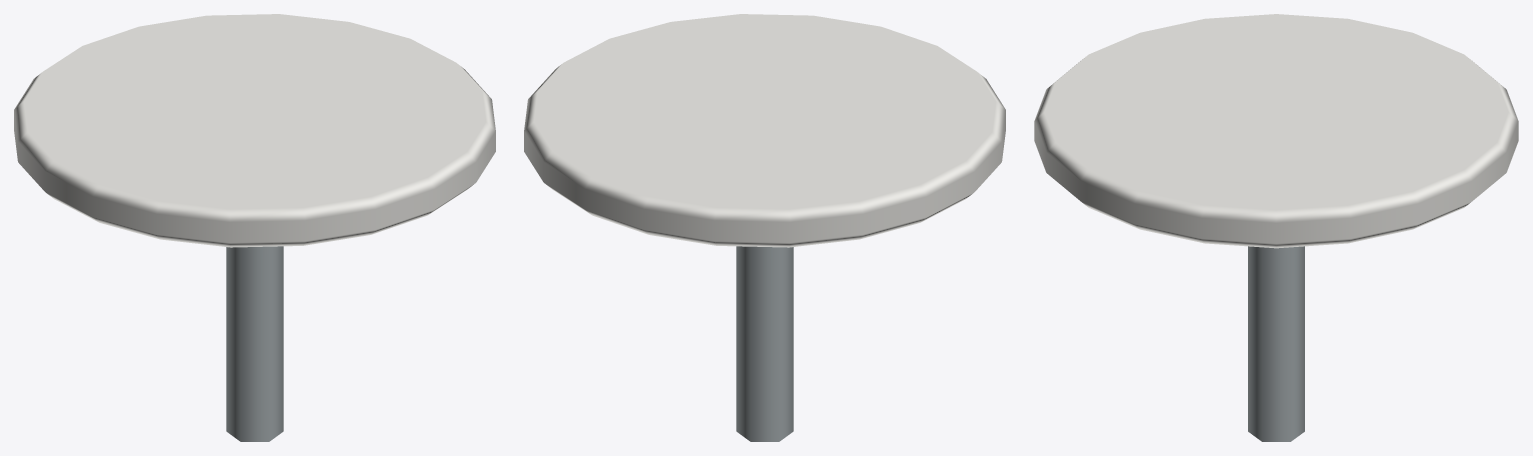
The model's file is TableRound.fbx.
3 views of the same model, side by side, from view 1: azimuth 30°, elevation 25°; view 2: azimuth 150°, elevation 25°; view 3: azimuth 270°, elevation 25° (orthographic).
Parts seen in each view (by area): view 1: Cylinder.006; view 2: Cylinder.006; view 3: Cylinder.006.
Part boxes in pixels (box(x1,y1,x2,y2)): Cylinder.006: box(14, 14, 495, 441); Cylinder.006: box(524, 14, 1005, 441); Cylinder.006: box(1034, 14, 1518, 441).
Size of the model in its own units: 147 by 107 by 147.
